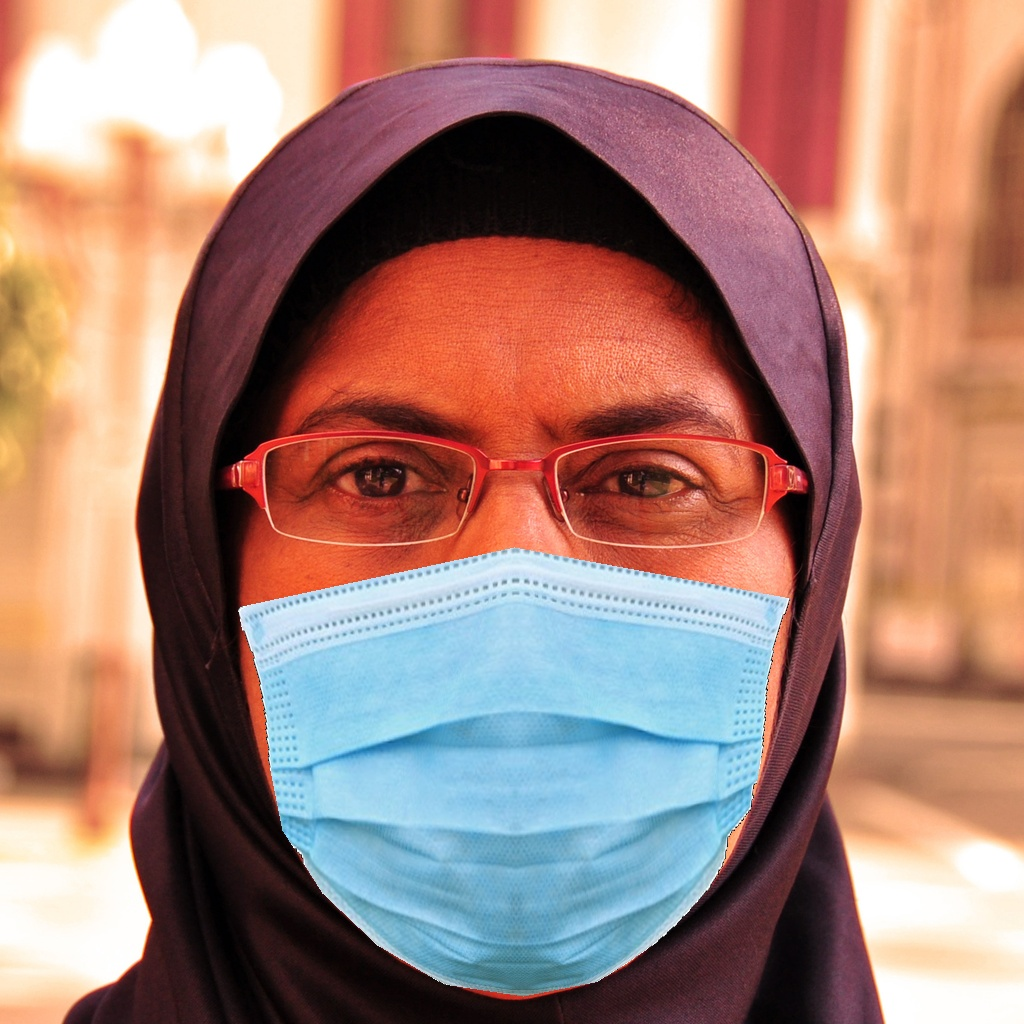Mask: (214, 343, 807, 1001)
